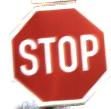Stop sign: (0, 0, 110, 108)
